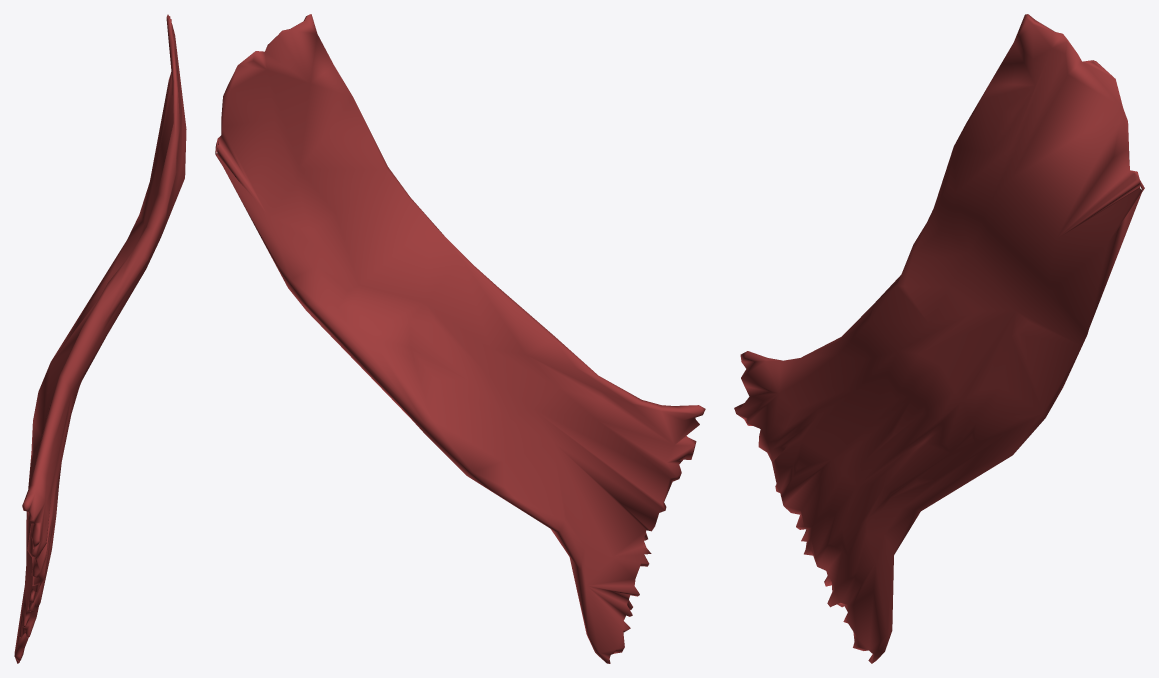
File: zygomaticus-major-muscle-l.glb
3 views of the same model, side by side, from view 1: azimuth 30°, elevation 25°; view 2: azimuth 150°, elevation 25°; view 3: azimuth 270°, elevation 25° (orthographic). The views are drawn at different scales.
Visible parts, largest first — view 1: Zygomaticus major muscle.l; view 2: Zygomaticus major muscle.l; view 3: Zygomaticus major muscle.l.
Boxes of the visible parts, x1,y1,x2,y2 form: Zygomaticus major muscle.l: [14, 14, 186, 663]; Zygomaticus major muscle.l: [215, 14, 705, 663]; Zygomaticus major muscle.l: [734, 14, 1144, 663].
Size of the model in its own units: 0.0294 by 0.0545 by 0.0256.
